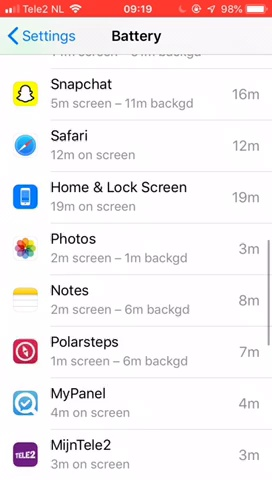app: (13, 71, 266, 111), (15, 126, 268, 166), (13, 175, 266, 215), (12, 229, 265, 269), (12, 276, 265, 316), (12, 331, 265, 371), (8, 384, 261, 424), (12, 434, 265, 474)
